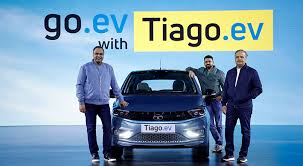Tiago: (109, 67, 210, 163)
